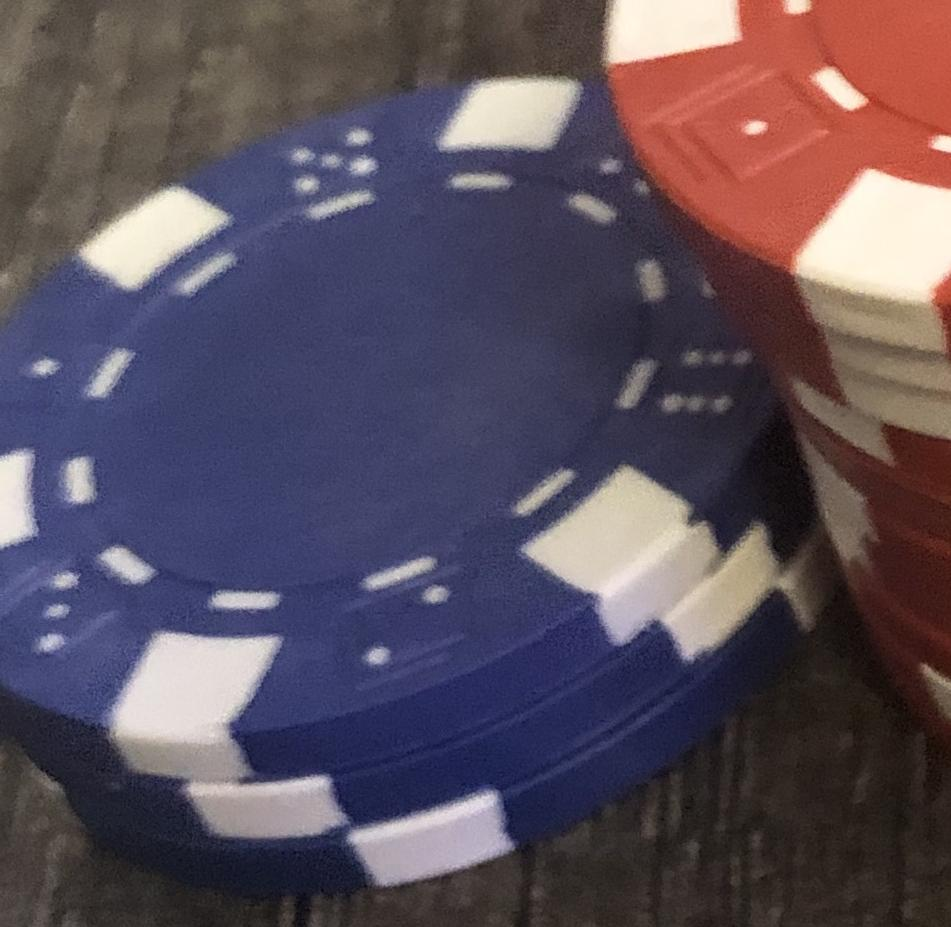Chip: (1, 1, 951, 927)
